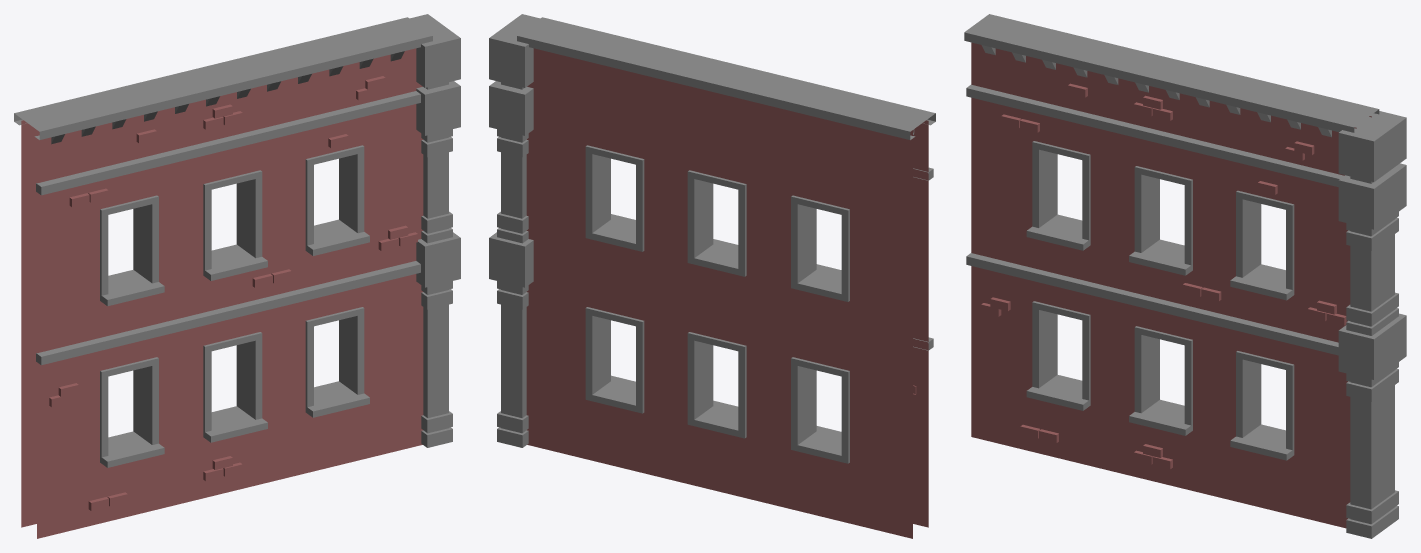
File: wall_For_Texture.fbx
3 views of the same model, side by side, from view 1: azimuth 30°, elevation 25°; view 2: azimuth 150°, elevation 25°; view 3: azimuth 330°, elevation 25° (orthographic).
Parts seen in each view (by area): view 1: bricking, Framing2, Column_03; view 2: bricking, Framing2, Column_03; view 3: bricking, Framing2, Column_03.
Boxes of the visible parts, <box> form: bricking: <box>21,48,423,538</box>; Framing2: <box>14,17,432,467</box>; Column_03: <box>409,14,460,447</box>; bricking: <box>526,48,928,538</box>; Framing2: <box>517,17,935,463</box>; Column_03: <box>489,14,540,447</box>; bricking: <box>971,42,1371,528</box>; Framing2: <box>964,14,1379,460</box>; Column_03: <box>1338,111,1406,538</box>.
Size of the model in its own units: 4.3 by 4.04 by 0.5871.
